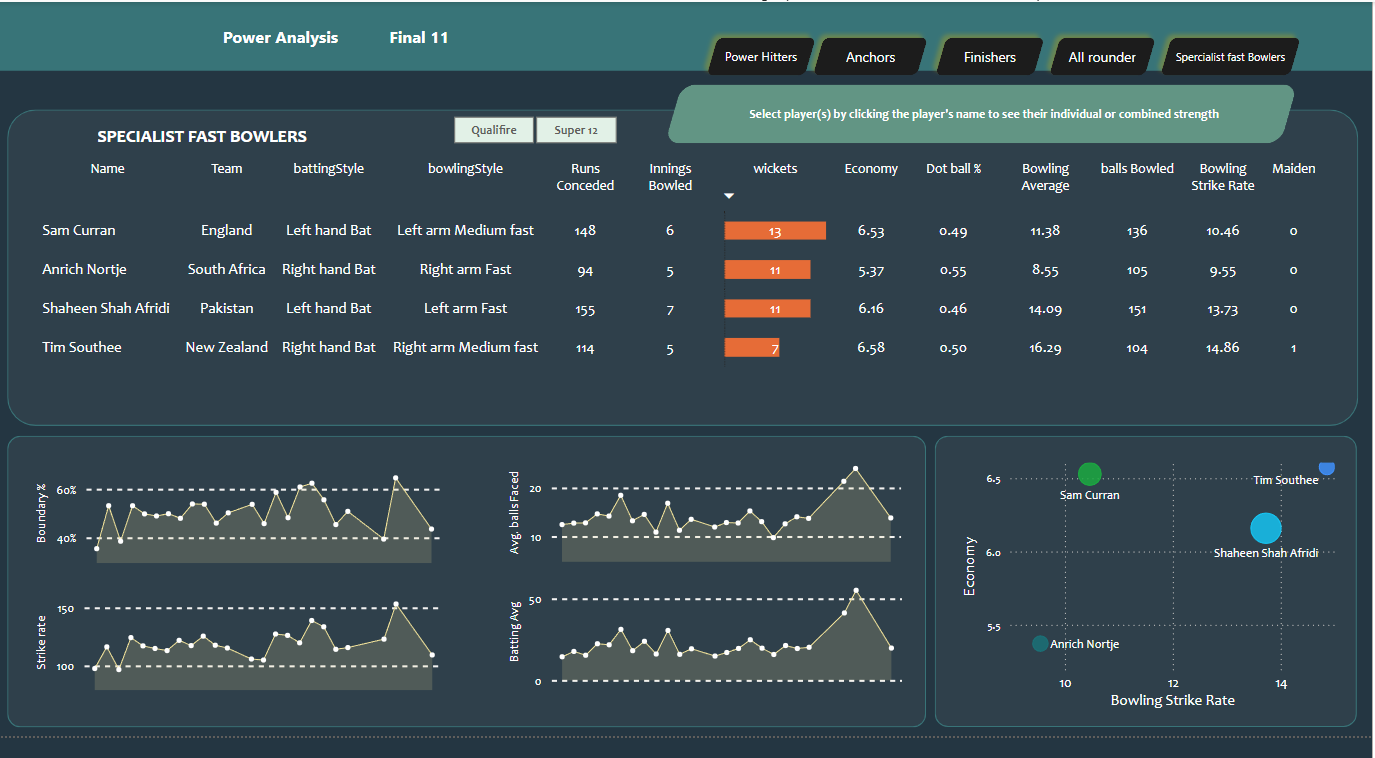

Layout of this report page (visuals, bound fields, positions):
{"tool":"powerbi","page":{"name":"SPECIALIST FAST BOWLERS","canvas":[1343,716],"ordinal":4},"visuals":[{"type":"shape","box":[916.6,423.8,412.3,284.5],"z":0},{"type":"shape","box":[11.5,423.8,896.5,284.5],"z":1000},{"type":"shape","box":[11.5,104.9,1318.9,308.9],"z":2000},{"type":"shape","box":[0,0,1343.2,67.1],"z":3000},{"type":"tableEx","fields":{"Values":["dim_players.name","dim_players.team","dim_players.battingStyle","dim_players.bowlingStyle","Key measure (2).Runs Conceded","Key measure (2).Total Innings Bowled","Key measure (2).wickets","Key measure (2).Economy","Key measure (2).Dot ball %","Key measure (2).Bowling Average","Key measure (2).balls Bowled","Key measure (2).Bowling Strike Rate"]},"box":[34.5,139.4,1265.7,257.2],"z":4000},{"type":"scatterChart","title":"Players by Bat avg and Strike rate","fields":{"Category":["dim_players.name"],"X":["Key measure (2).Bowling Strike Rate"],"Series":["dim_players.name"],"Size":["Key measure (2).Total Runs"],"Y":["Key measure (2).Economy"]},"box":[938.1,436.7,379.3,258.6],"z":5000},{"type":"areaChart","fields":{"Y":["Key measure (2).Batting Avg"],"Category":["dim_match_summary.matchDate.Variation.Date Hierarchy.Year","dim_match_summary.matchDate.Variation.Date Hierarchy.Quarter","dim_match_summary.matchDate.Variation.Date Hierarchy.Month","dim_match_summary.matchDate.Variation.Date Hierarchy.Day"]},"box":[495.7,553.1,393.6,123.6],"z":6000},{"type":"areaChart","fields":{"Y":["Key measure (2).Boundary %"],"Category":["dim_match_summary.matchDate.Variation.Date Hierarchy.Year","dim_match_summary.matchDate.Variation.Date Hierarchy.Quarter","dim_match_summary.matchDate.Variation.Date Hierarchy.Month","dim_match_summary.matchDate.Variation.Date Hierarchy.Day"]},"box":[34.5,438.2,406.6,114.9],"z":7000},{"type":"areaChart","fields":{"Y":["Key measure (2).Strike rate"],"Category":["dim_match_summary.matchDate.Variation.Date Hierarchy.Year","dim_match_summary.matchDate.Variation.Date Hierarchy.Quarter","dim_match_summary.matchDate.Variation.Date Hierarchy.Month","dim_match_summary.matchDate.Variation.Date Hierarchy.Day"]},"box":[34.5,566.1,406.6,110.6],"z":8000},{"type":"areaChart","fields":{"Y":["Key measure (2).Avg. balls Faced"],"Category":["dim_match_summary.matchDate.Variation.Date Hierarchy.Year","dim_match_summary.matchDate.Variation.Date Hierarchy.Quarter","dim_match_summary.matchDate.Variation.Date Hierarchy.Month","dim_match_summary.matchDate.Variation.Date Hierarchy.Day"]},"box":[495.7,436.7,393.6,114.9],"z":9000},{"type":"slicer","fields":{"Values":["dim_match_summary.Stage"]},"box":[420.9,104.9,208.6,32.9],"z":10000},{"type":"shape","box":[51.2,112.2,336.7,37.8],"z":11000},{"type":"shape","box":[98.8,112.2,289.1,37.8],"z":12000},{"type":"shape","box":[652.7,80.5,617.3,57.3],"z":13000},{"type":"shape","box":[693,92.7,542.9,34.2],"z":14000},{"type":"actionButton","box":[684.4,25.6,124.4,54.9],"z":15000},{"type":"actionButton","box":[788.1,25.6,130.5,54.9],"z":16000},{"type":"actionButton","box":[907.7,25.6,124.4,54.9],"z":17000},{"type":"actionButton","box":[1018.7,25.6,122,54.9],"z":18000},{"type":"actionButton","box":[1127.3,25.6,154.9,54.9],"z":19000},{"type":"actionButton","box":[209.8,0,135.4,67.1],"z":20000},{"type":"actionButton","box":[345.3,0,135.4,67.1],"z":21000}]}

Visuals, with their boxes on the page's 1343x716 design canvas (x1, y1, x2, y2). These are canvas units, not pixel positions in the 1375x758 screenshot, which may show the page scaled, cropped or inside an application window:
shape: rect(917, 424, 1329, 708)
shape: rect(12, 424, 908, 708)
shape: rect(12, 105, 1330, 414)
shape: rect(0, 0, 1343, 67)
tableEx - dim_players.name x dim_players.team: rect(34, 139, 1300, 397)
"Players by Bat avg and Strike rate" scatterChart: rect(938, 437, 1317, 695)
areaChart - Key measure (2).Batting Avg x dim_match_summary.matchDate.Variation.Date Hierarchy.Year: rect(496, 553, 889, 677)
areaChart - Key measure (2).Boundary % x dim_match_summary.matchDate.Variation.Date Hierarchy.Year: rect(34, 438, 441, 553)
areaChart - Key measure (2).Strike rate x dim_match_summary.matchDate.Variation.Date Hierarchy.Year: rect(34, 566, 441, 677)
areaChart - Key measure (2).Avg. balls Faced x dim_match_summary.matchDate.Variation.Date Hierarchy.Year: rect(496, 437, 889, 552)
slicer - dim_match_summary.Stage: rect(421, 105, 630, 138)
shape: rect(51, 112, 388, 150)
shape: rect(99, 112, 388, 150)
shape: rect(653, 80, 1270, 138)
shape: rect(693, 93, 1236, 127)
actionButton: rect(684, 26, 809, 80)
actionButton: rect(788, 26, 919, 80)
actionButton: rect(908, 26, 1032, 80)
actionButton: rect(1019, 26, 1141, 80)
actionButton: rect(1127, 26, 1282, 80)
actionButton: rect(210, 0, 345, 67)
actionButton: rect(345, 0, 481, 67)
